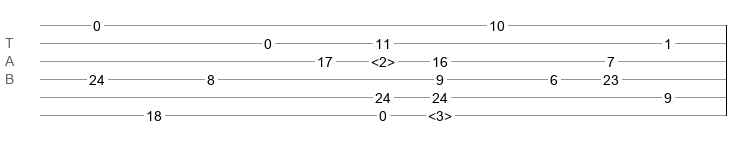0: (93, 18, 101, 28), (264, 36, 272, 46), (379, 108, 387, 118)
1: (664, 36, 672, 46)
10: (489, 18, 505, 28)
11: (375, 36, 391, 46)
16: (432, 54, 448, 64)
17: (317, 54, 333, 64)
18: (146, 108, 162, 118)
23: (603, 72, 619, 82)
24: (89, 72, 105, 82), (375, 90, 391, 100), (432, 90, 448, 100)
6: (550, 72, 558, 82)
7: (607, 54, 615, 64)
8: (207, 72, 215, 82)
9: (436, 72, 444, 82), (664, 90, 672, 100)
harmonic: (371, 54, 395, 64), (428, 108, 452, 118)
